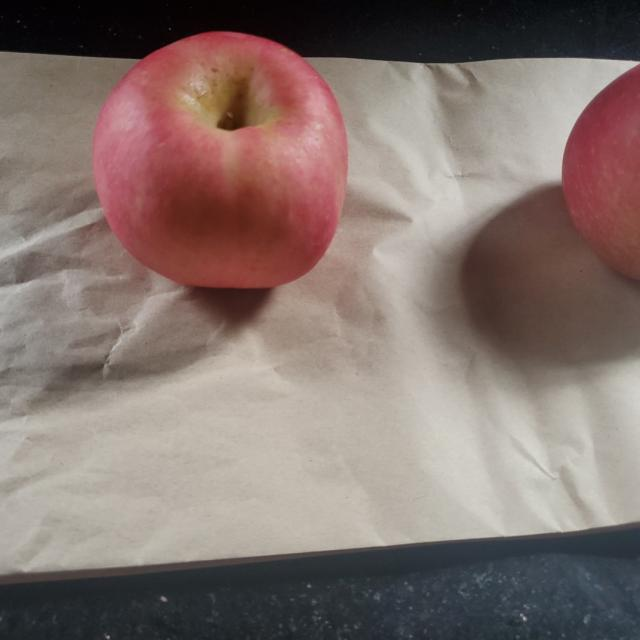apple: (96, 31, 352, 287), (559, 70, 636, 286)
